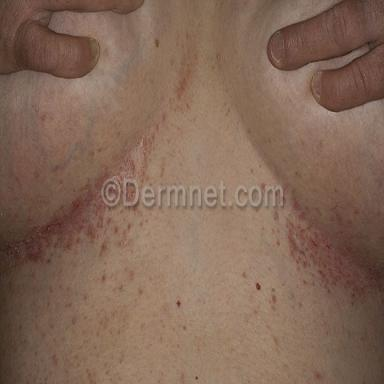Darier_s-Disease: (2, 123, 159, 264), (283, 192, 384, 306), (174, 38, 201, 104)
